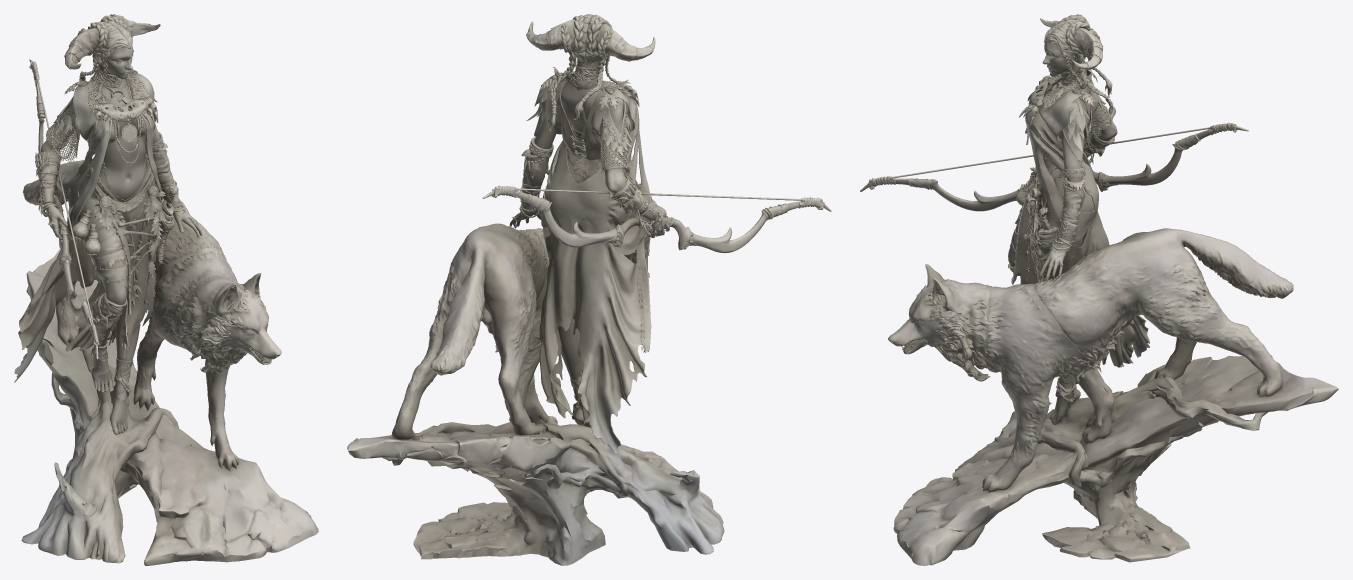
File: nemetona.glb
The picture shows the model from 3 angles, left to right: view 1: azimuth 30°, elevation 25°; view 2: azimuth 150°, elevation 25°; view 3: azimuth 270°, elevation 25°; orthographic projection. The views are drawn at different scales.
Size of the model in its own units: 0.1798 by 0.3306 by 0.2978.
1 material, 1 textured.
